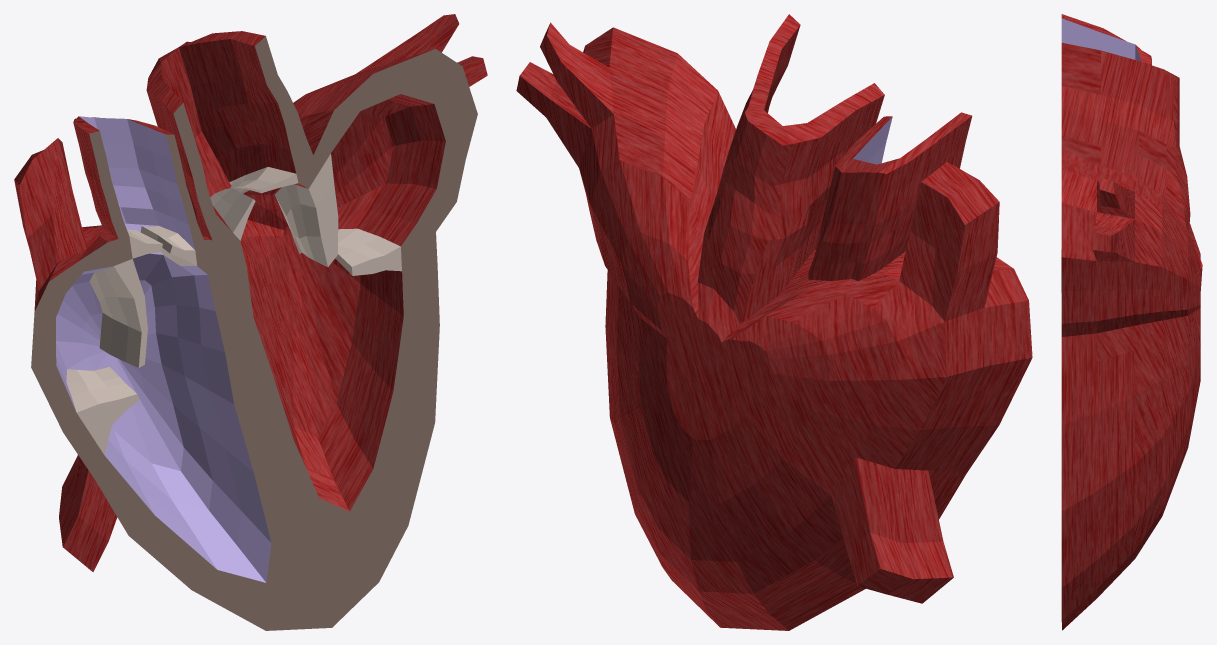
The model's file is Heart_valve_apply_modify.fbx.
3 views of the same model, side by side, from view 1: azimuth 30°, elevation 25°; view 2: azimuth 150°, elevation 25°; view 3: azimuth 270°, elevation 25° (orthographic). The views are drawn at different scales.
Parts seen in each view (by area): view 1: BezierCurve; view 2: BezierCurve; view 3: BezierCurve.
Boxes of the visible parts, left/top/right/bottom form: BezierCurve: left=14, top=14, right=487, bottom=630; BezierCurve: left=516, top=14, right=1032, bottom=630; BezierCurve: left=1061, top=14, right=1202, bottom=630.
Size of the model in its own units: 249 by 307 by 70.28.
Materials: 4 (1 with a texture image).
